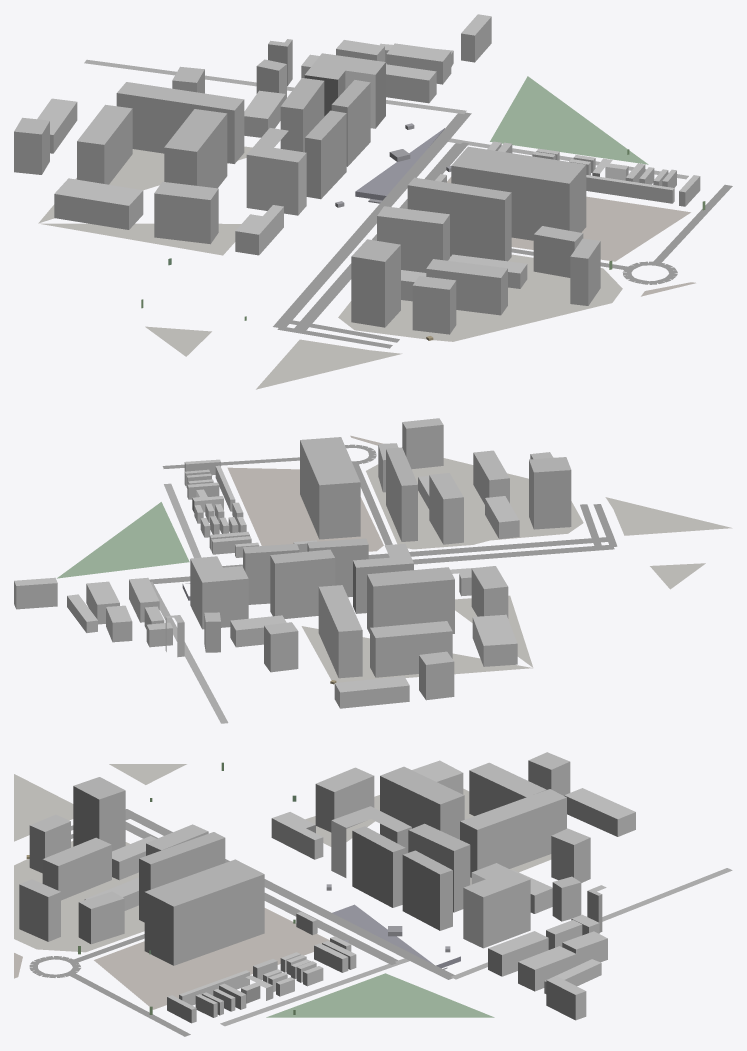
The picture shows the model from 3 angles, top to bottom: view 1: azimuth 30°, elevation 25°; view 2: azimuth 150°, elevation 25°; view 3: azimuth 270°, elevation 25°; orthographic projection. The views are drawn at different scales.
Bounding box in the file's own units: 538 × 70.46 × 603.
